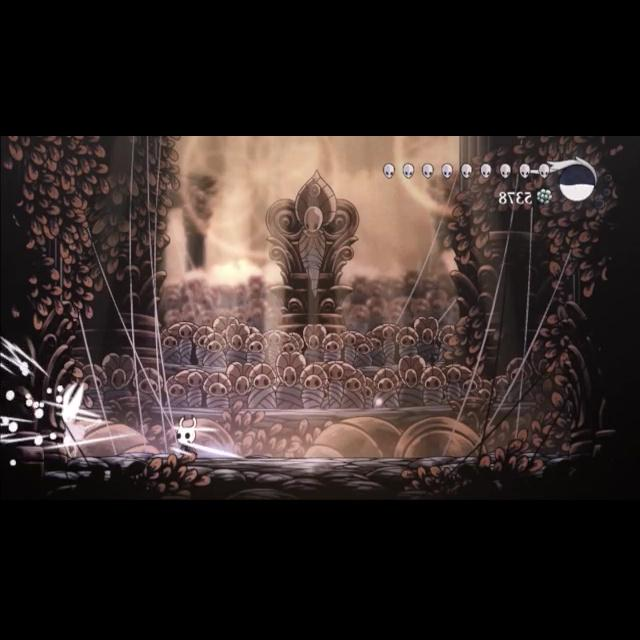EnemyDamaged: (52, 378, 106, 460)
Player: (168, 413, 206, 462)
